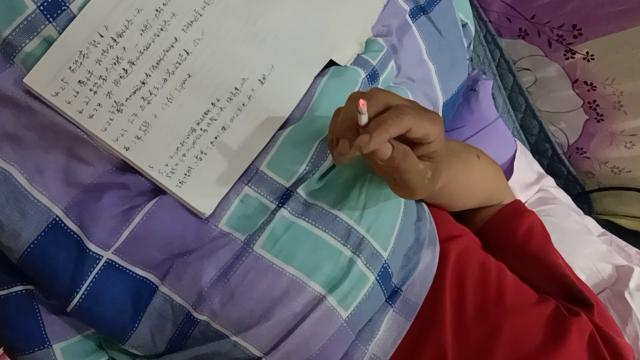Cigarette: (358, 99, 370, 145)
